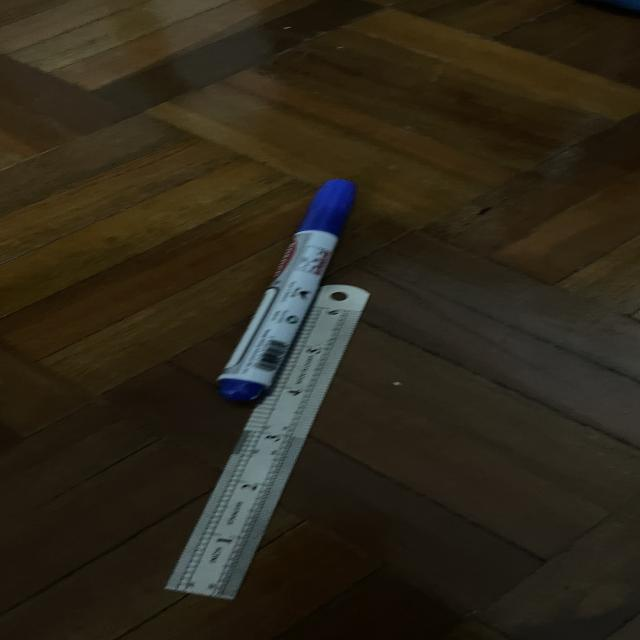marker: (217, 179, 357, 401)
ruler: (166, 285, 369, 600)
